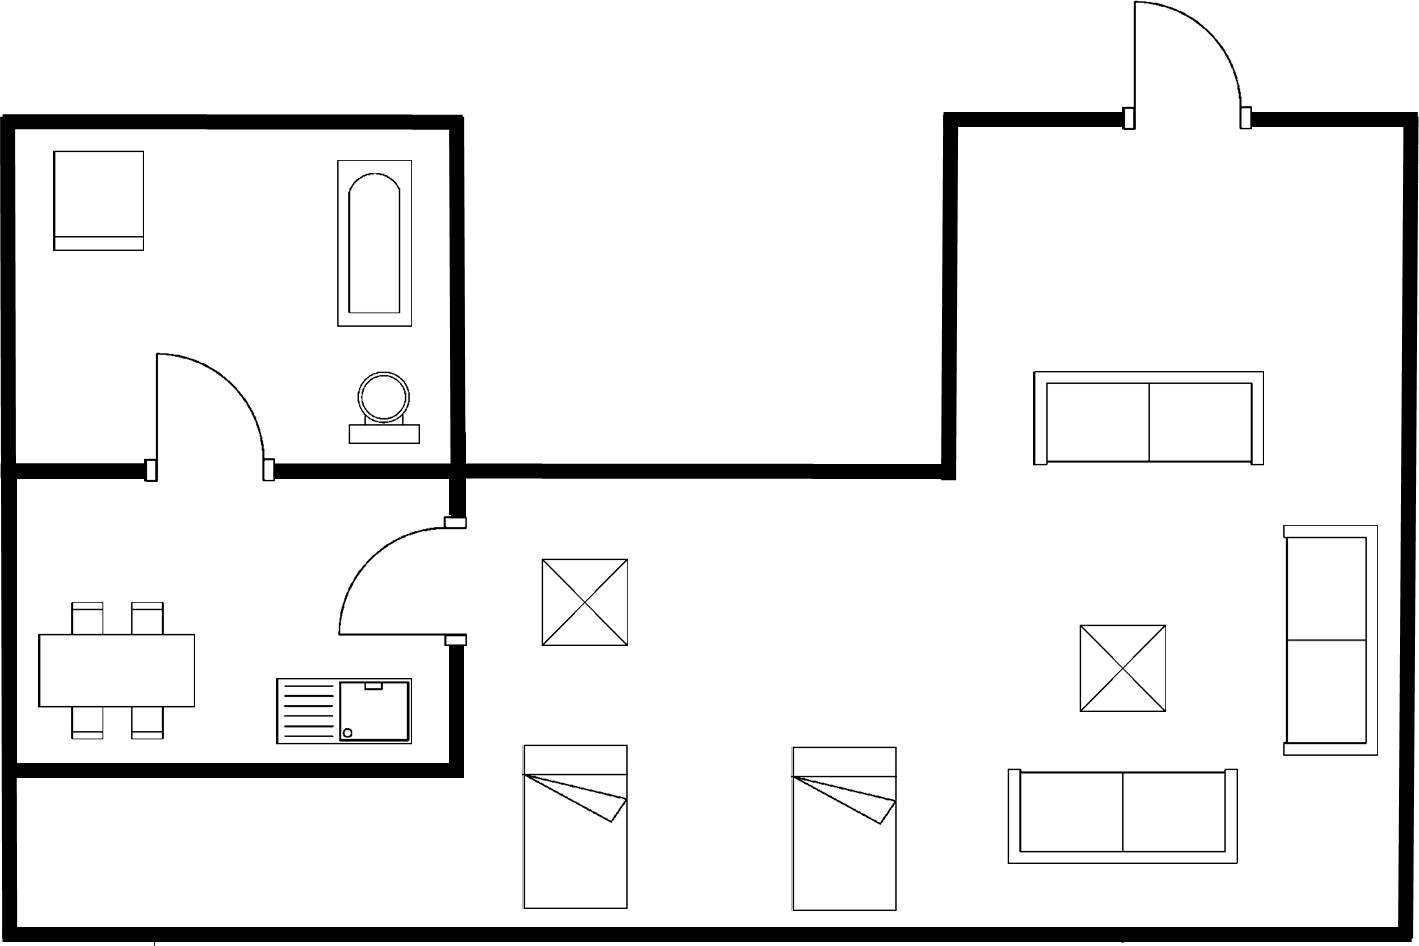bed: (786, 742, 905, 918), (517, 737, 634, 915)
coffee_table: (1073, 618, 1174, 721), (533, 551, 633, 653)
dining_table: (34, 596, 201, 749)
large_sink: (344, 365, 425, 452)
large_sofa: (998, 759, 1248, 874), (1276, 518, 1386, 765), (1026, 366, 1272, 473)
sink: (268, 670, 419, 752)
small_sofa: (46, 142, 152, 258)
tub: (331, 155, 417, 335)
